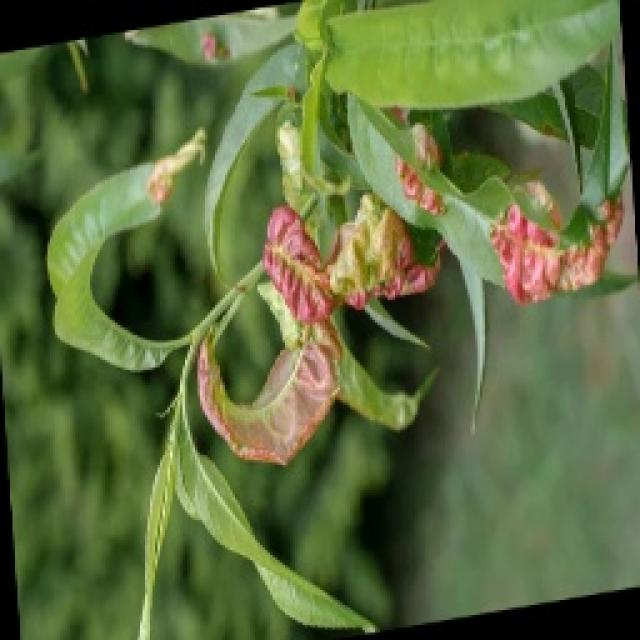peach_leaf_curl: (254, 161, 608, 331)
